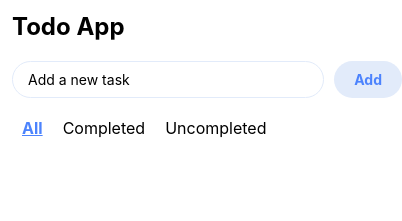
TodoScreen › should add a new todo when the add button is pressed
Step 1. Type "New Task" into the field with placeholder "Add a new task" → (168, 80), box [12,61,324,98]
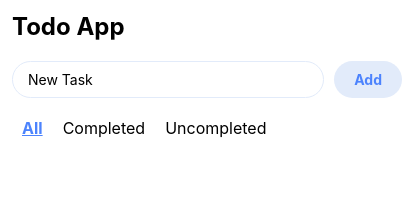
Step 2. Click the text "Add" → (368, 80), box [354,71,382,88]
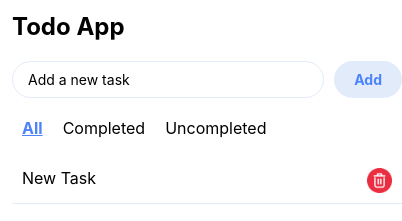
Check: the text "New Task" is shown, box [22,168,96,193]
